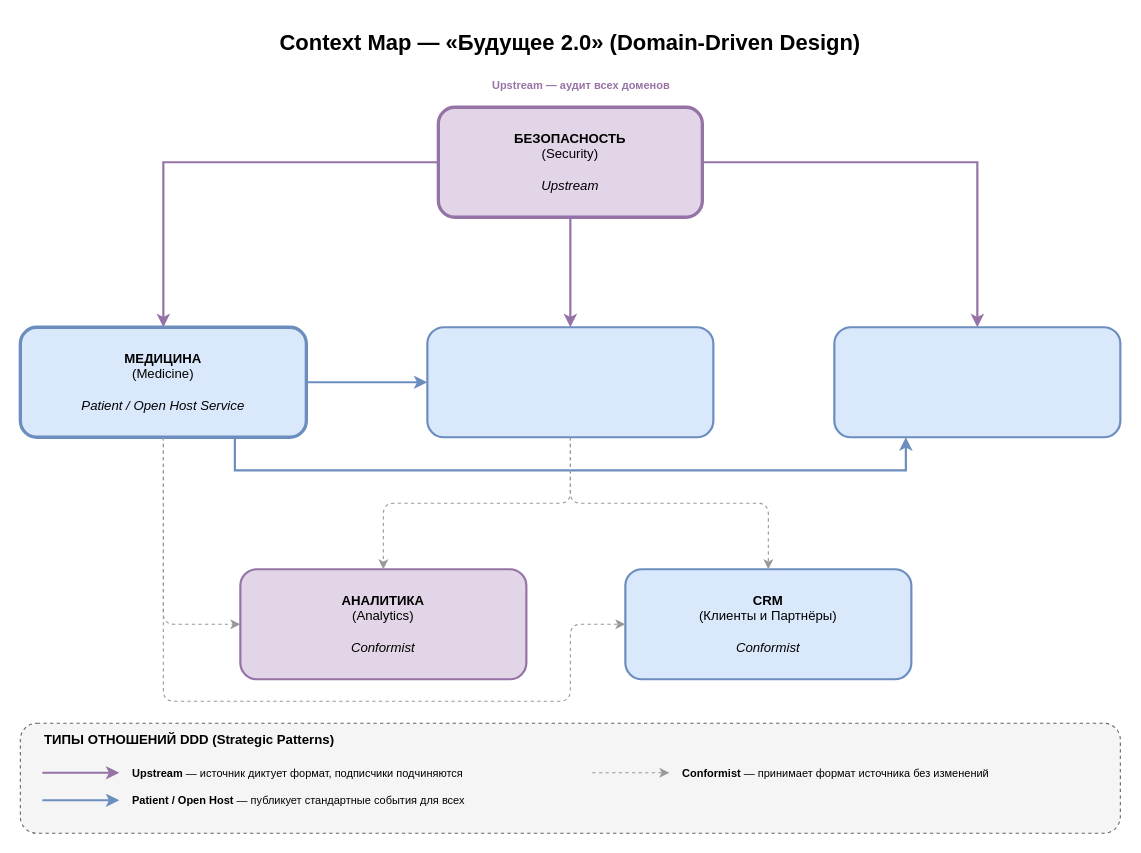
Image size: 1141x853. Some labels were removed from this diagram. The centre of each missing label's shape, as x and y in pixels:
ИИ-СЕРВИСЫ (AI Services) Conformist: point (977, 382)
ФИНТЕХ (Fintech) Conformist: point (570, 382)
